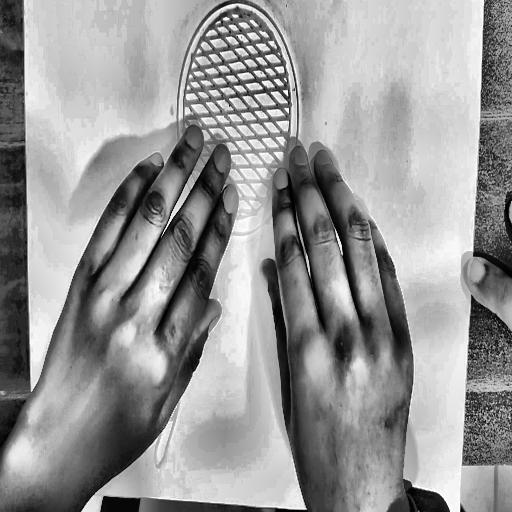badminton: (128, 0, 369, 493)
bottom_left: (35, 472, 43, 486)
